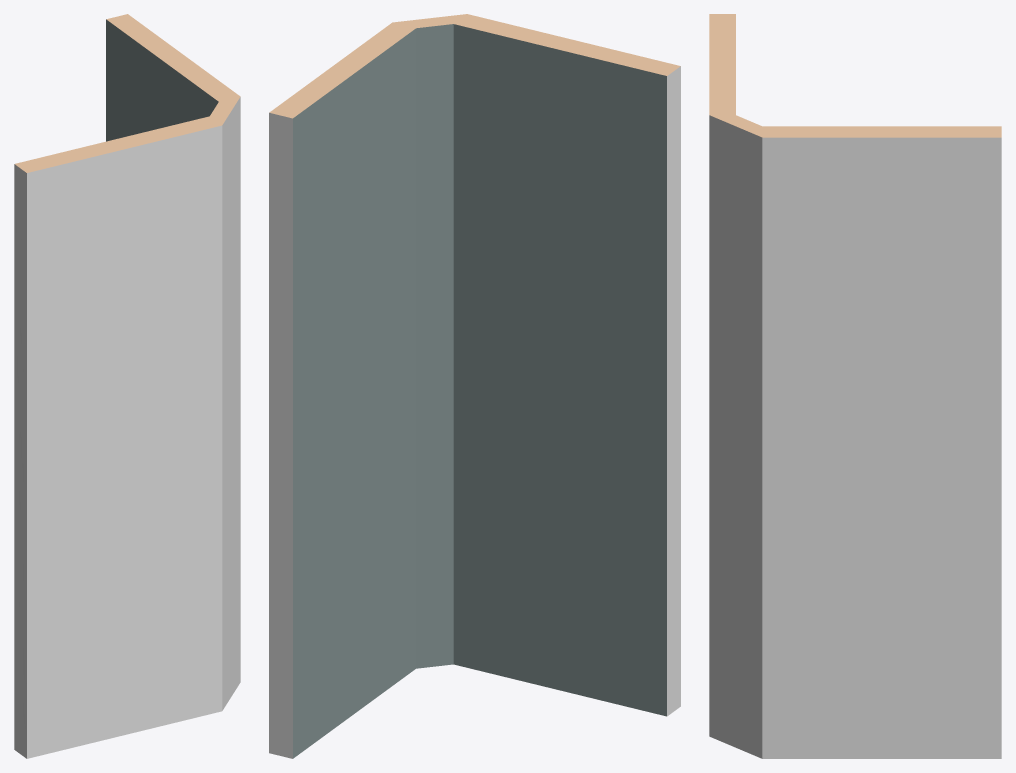
The model's file is wallCorner.glb.
The picture shows the model from 3 angles, left to right: view 1: azimuth 30°, elevation 25°; view 2: azimuth 150°, elevation 25°; view 3: azimuth 270°, elevation 25°; orthographic projection. The views are drawn at different scales.
Parts seen in each view (by area): view 1: wallCorner(Clone); view 2: wallCorner(Clone); view 3: wallCorner(Clone).
Boxes of the visible parts, x1,y1,x2,y2 form: wallCorner(Clone): (14, 14, 240, 758); wallCorner(Clone): (269, 14, 680, 758); wallCorner(Clone): (709, 14, 1001, 758).
Bounding box in the file's own units: 1.12 × 2.62 × 1.12.
Materials: 3 (3 with a texture image).
